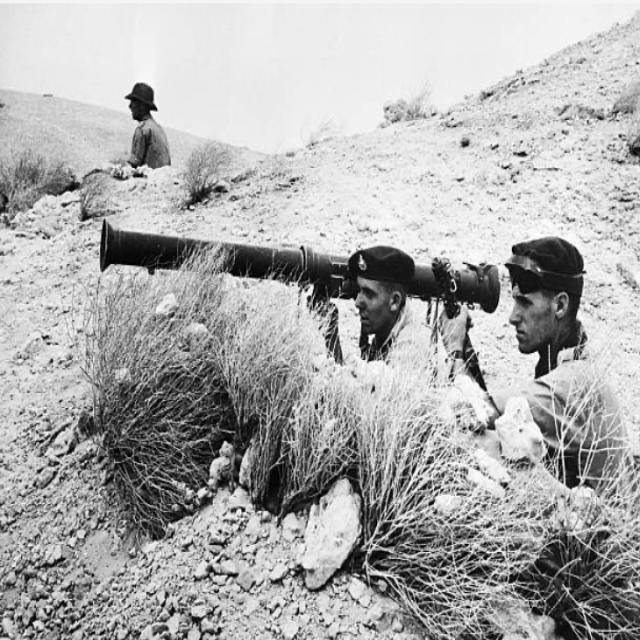bazooka: (85, 208, 511, 335)
